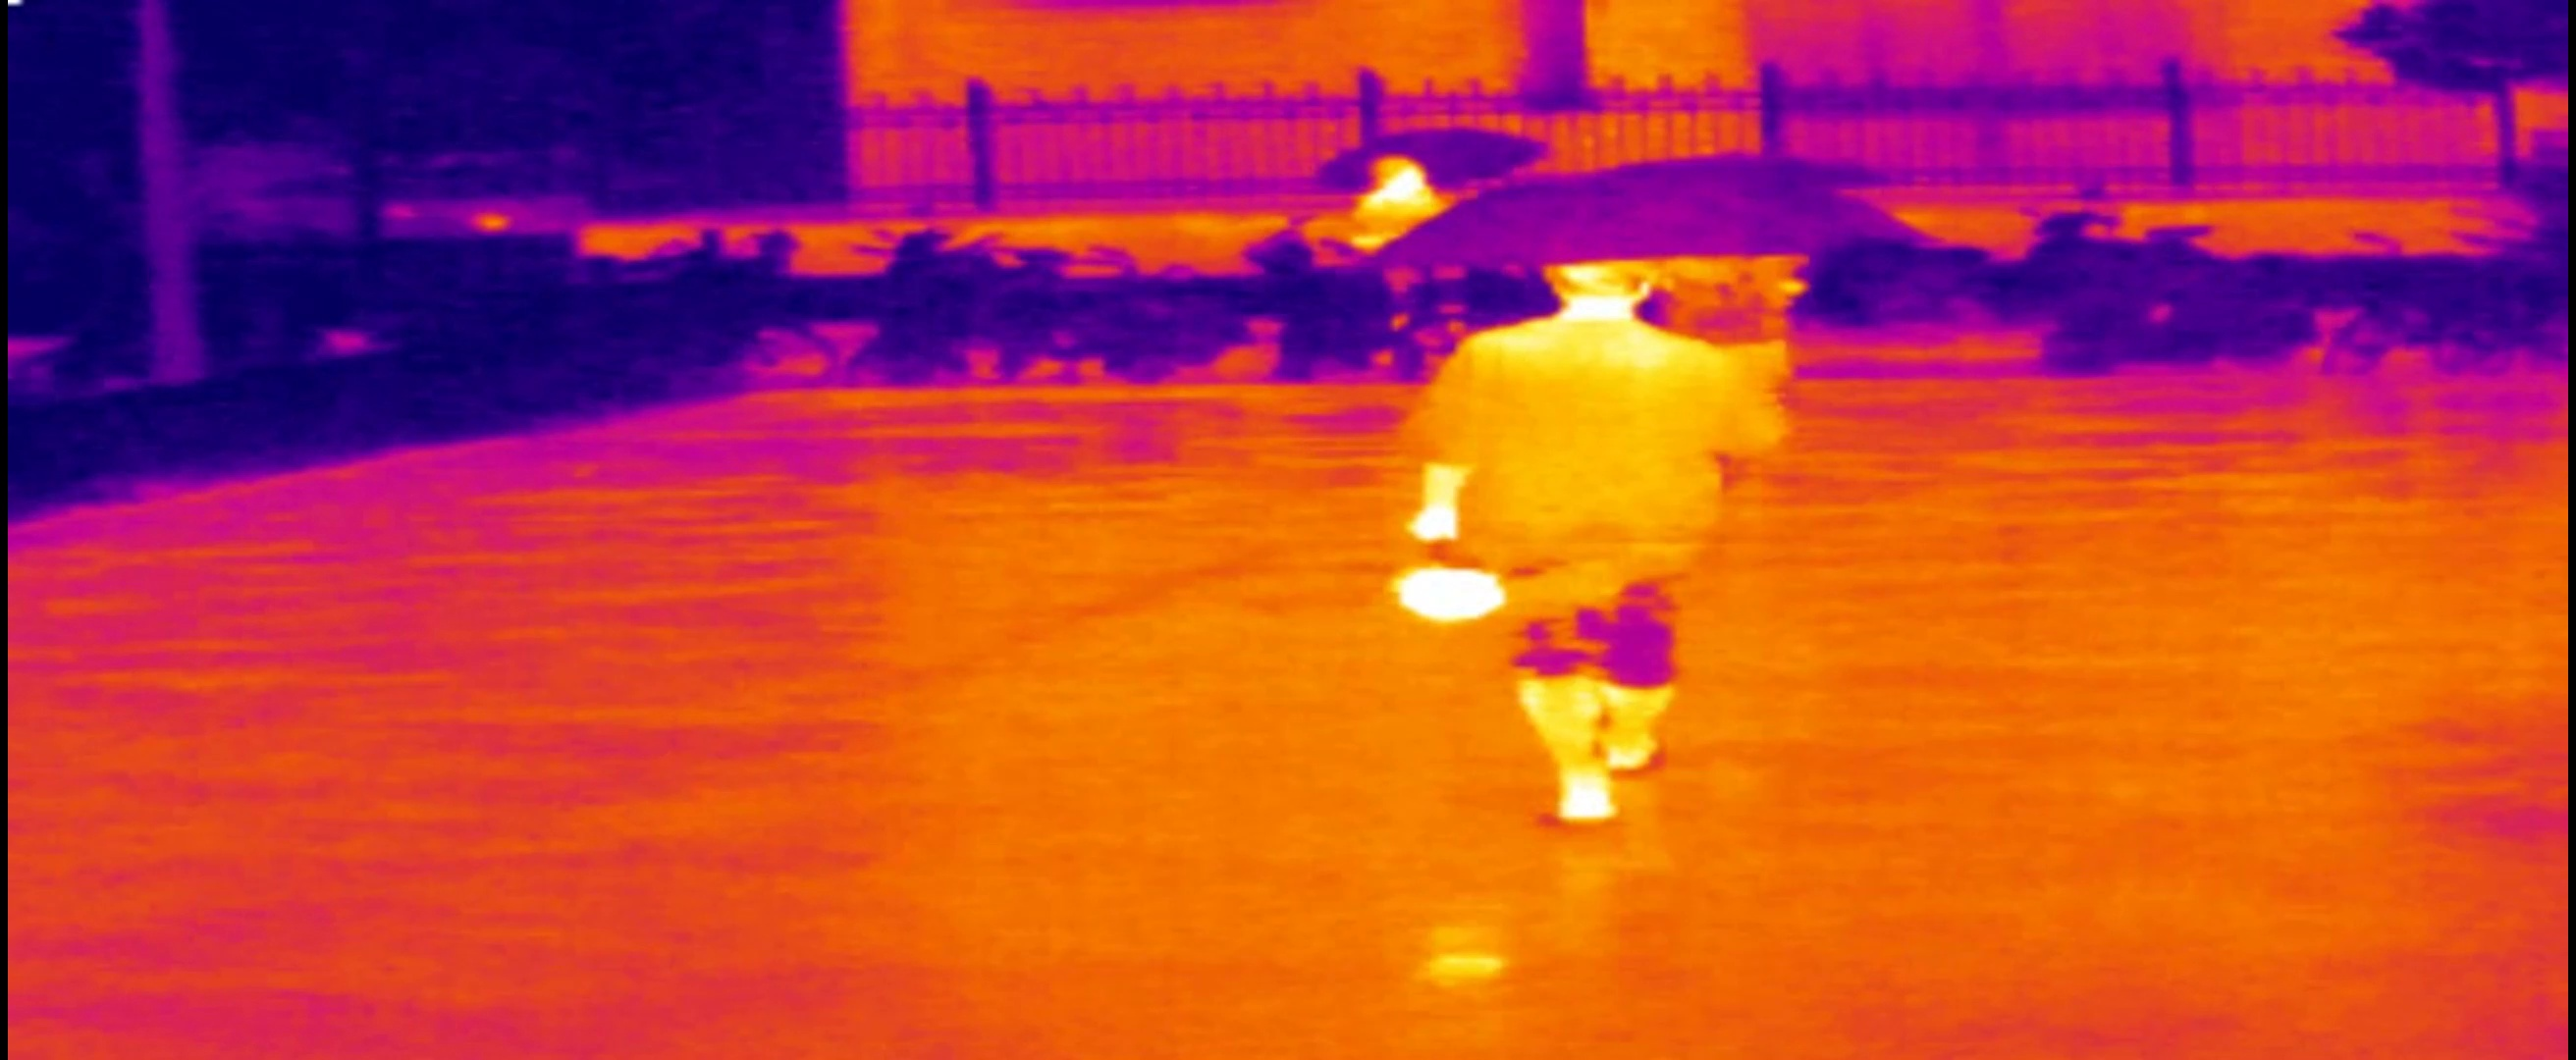person: (1403, 263, 1781, 835), (1349, 155, 1444, 249)
